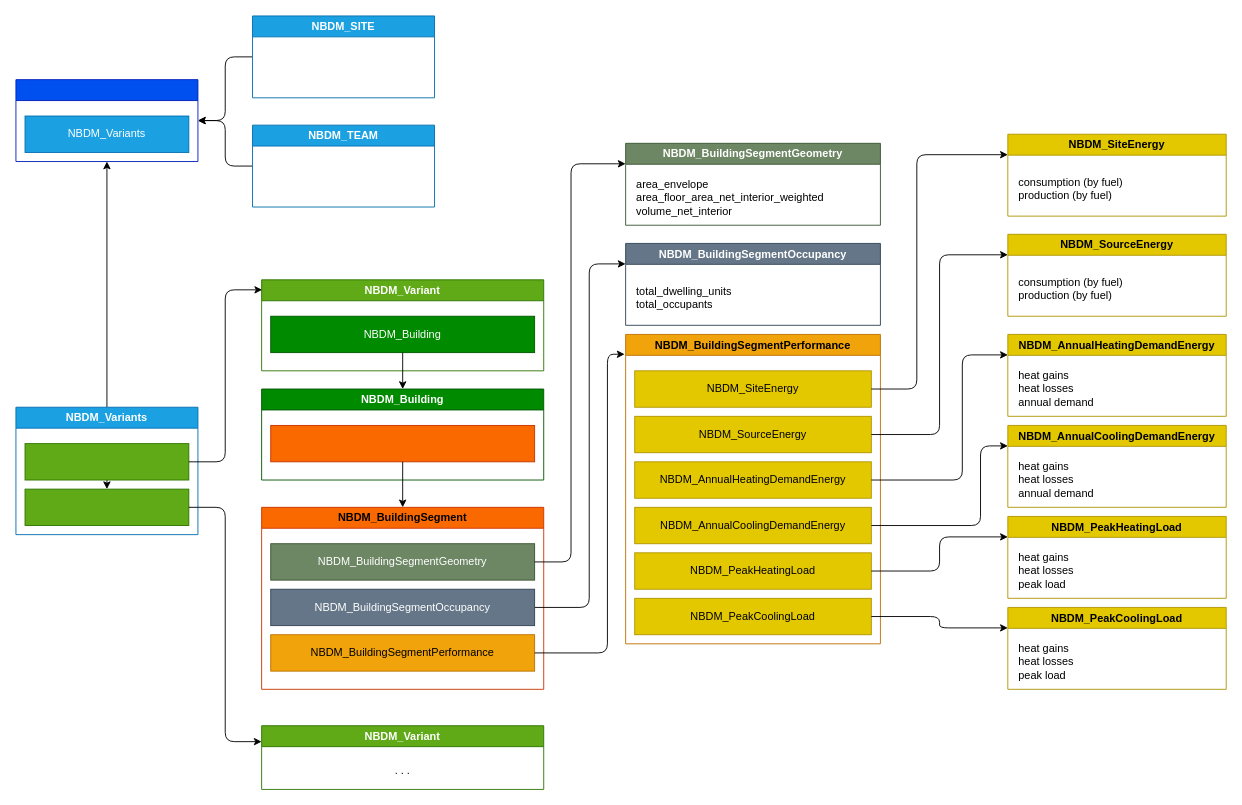
Some shapes in this 1242 by 805 pixel diagram are drawn without their labels. Here are the shapes that lost their labels. From the top down, the box of each, then its label:
(15, 79, 198, 162): NBDM_Project
(24, 443, 189, 480): NBDM_Variant [proposed]
(270, 425, 535, 462): Collection: NBDM_BuildingSegment
(24, 488, 189, 526): NBDM_Variant [baseline]
